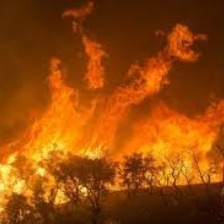incendio: (1, 70, 221, 197)
